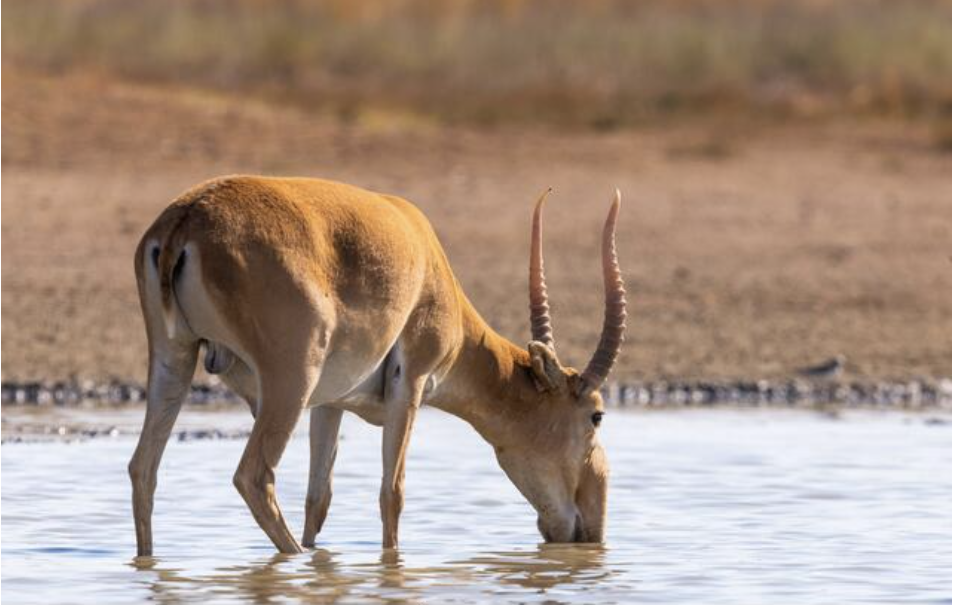saiga: (107, 136, 636, 579)
